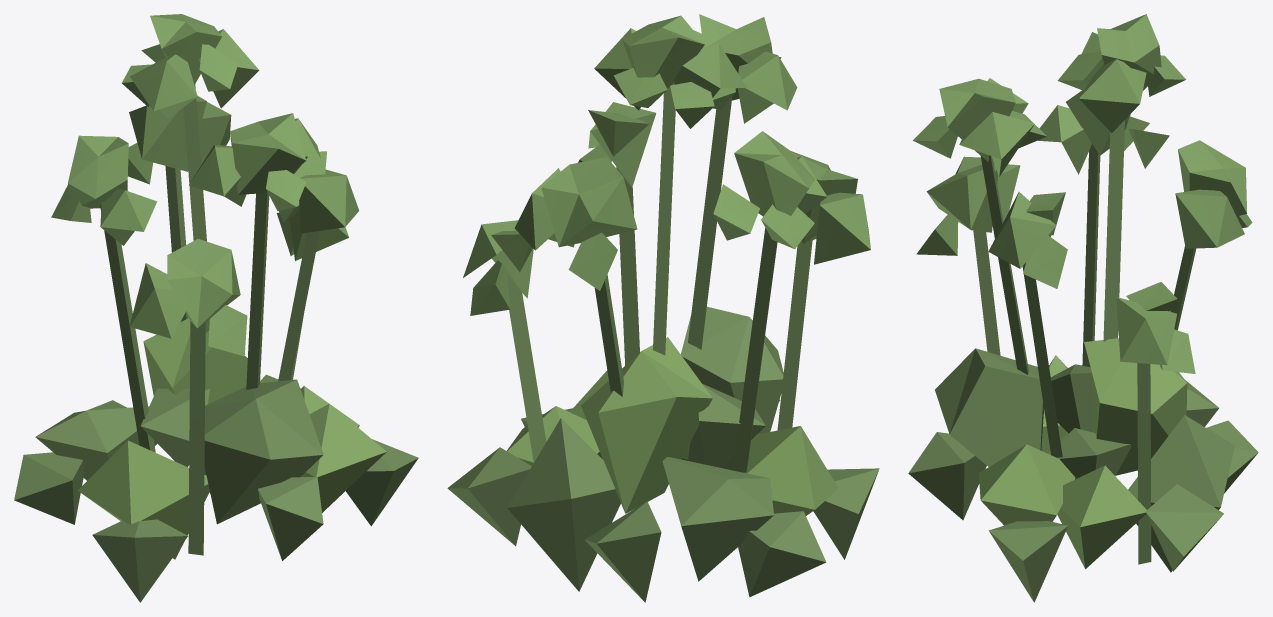
File: elven_SM_Env_Flowers_10.gltf
3 views of the same model, side by side, from view 1: azimuth 30°, elevation 25°; view 2: azimuth 150°, elevation 25°; view 3: azimuth 270°, elevation 25° (orthographic). The views are drawn at different scales.
Visible parts, largest first — view 1: SM_Env_Flowers_10; view 2: SM_Env_Flowers_10; view 3: SM_Env_Flowers_10.
Boxes of the visible parts, bbox=[...] form: SM_Env_Flowers_10: bbox=[14, 14, 418, 602]; SM_Env_Flowers_10: bbox=[447, 14, 879, 602]; SM_Env_Flowers_10: bbox=[908, 14, 1258, 602].
Size of the model in its own units: 0.815 by 1.18 by 0.7226.
1 material, 1 textured.
